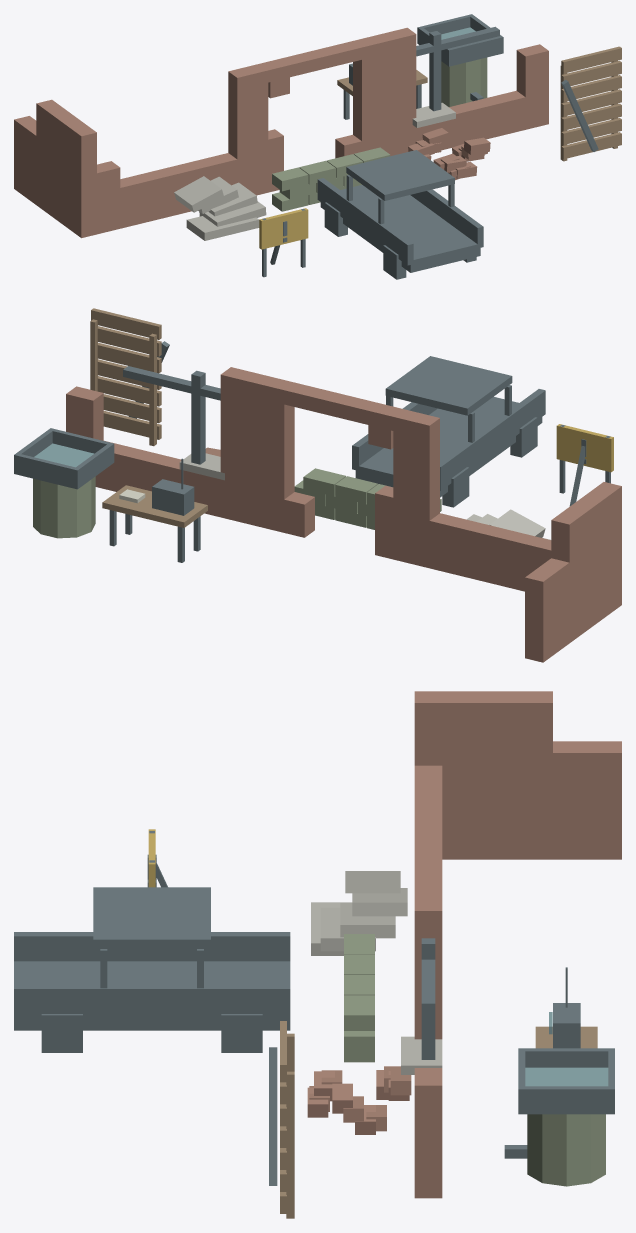
File: zombie-quarantine-streets-repaired-street-corner-f5dca54e__19363.glb
The picture shows the model from 3 angles, top to bottom: view 1: azimuth 30°, elevation 25°; view 2: azimuth 150°, elevation 25°; view 3: azimuth 270°, elevation 25°; orthographic projection. The views are drawn at different scales.
Visible parts, largest first — view 1: 002-collapsed-corner/0, 009-burned-car-shell/0, 000-breached-wall-centre/0, 001-collapsed-window-wall/1, 008-boarded-door-panel/1, 005-slab-rubble-heap/0, 003-sandbag-wall/0, 007-rainwater-collector/0, 004-brick-rubble-heap/0, 007-rainwater-collector/1, 001-collapsed-window-wall/2, 010-warning-sign-tripod/1 (+4 smaller); view 2: 000-breached-wall-centre/0, 002-collapsed-corner/0, 009-burned-car-shell/0, 001-collapsed-window-wall/1, 008-boarded-door-panel/1, 007-rainwater-collector/0, 003-sandbag-wall/0, 007-rainwater-collector/1, 001-collapsed-window-wall/2, 006-radio-desk/0, 010-warning-sign-tripod/1, 006-radio-desk/1 (+4 smaller); view 3: 009-burned-car-shell/0, 002-collapsed-corner/0, 001-collapsed-window-wall/1, 005-slab-rubble-heap/0, 007-rainwater-collector/1, 007-rainwater-collector/0, 004-brick-rubble-heap/0, 003-sandbag-wall/0, 000-breached-wall-centre/0, 008-boarded-door-panel/1, 001-collapsed-window-wall/2, 007-rainwater-collector/2 (+4 smaller).
Part boxes in pixels (x1,y1,x2,y2): 002-collapsed-corner/0: (14,99,237,238); 009-burned-car-shell/0: (317,150,483,279); 000-breached-wall-centre/0: (228,33,392,195); 001-collapsed-window-wall/1: (384,27,548,155); 008-boarded-door-panel/1: (560,46,621,161); 005-slab-rubble-heap/0: (174,176,266,240); 003-sandbag-wall/0: (272,147,390,211); 007-rainwater-collector/0: (417,14,503,101); 004-brick-rubble-heap/0: (408,128,490,180); 007-rainwater-collector/1: (441,57,487,106); 001-collapsed-window-wall/2: (416,26,499,111); 010-warning-sign-tripod/1: (259,208,308,249); 000-breached-wall-centre/0: (247,373,439,568); 002-collapsed-corner/0: (429,482,621,662); 009-burned-car-shell/0: (352,356,545,507); 001-collapsed-window-wall/1: (66,367,257,523); 008-boarded-door-panel/1: (90,308,161,446); 007-rainwater-collector/0: (14,428,114,489); 003-sandbag-wall/0: (294,468,441,529); 007-rainwater-collector/1: (33,476,95,538); 001-collapsed-window-wall/2: (123,366,220,464); 006-radio-desk/0: (109,458,200,562); 010-warning-sign-tripod/1: (556,424,613,472); 006-radio-desk/1: (102,485,207,527); 009-burned-car-shell/0: (14,887,290,1052); 002-collapsed-corner/0: (414,691,621,859); 001-collapsed-window-wall/1: (414,893,442,1198); 005-slab-rubble-heap/0: (311,871,407,955); 007-rainwater-collector/1: (527,1114,605,1186); 007-rainwater-collector/0: (504,1048,614,1158); 004-brick-rubble-heap/0: (307,1066,411,1134); 003-sandbag-wall/0: (344,934,374,1062); 000-breached-wall-centre/0: (414,776,442,893); 008-boarded-door-panel/1: (280,1021,294,1218); 001-collapsed-window-wall/2: (421,938,435,1059); 007-rainwater-collector/2: (525,1067,608,1086).
Bounding box in the file's own units: 12.75 × 3 × 8.8.
